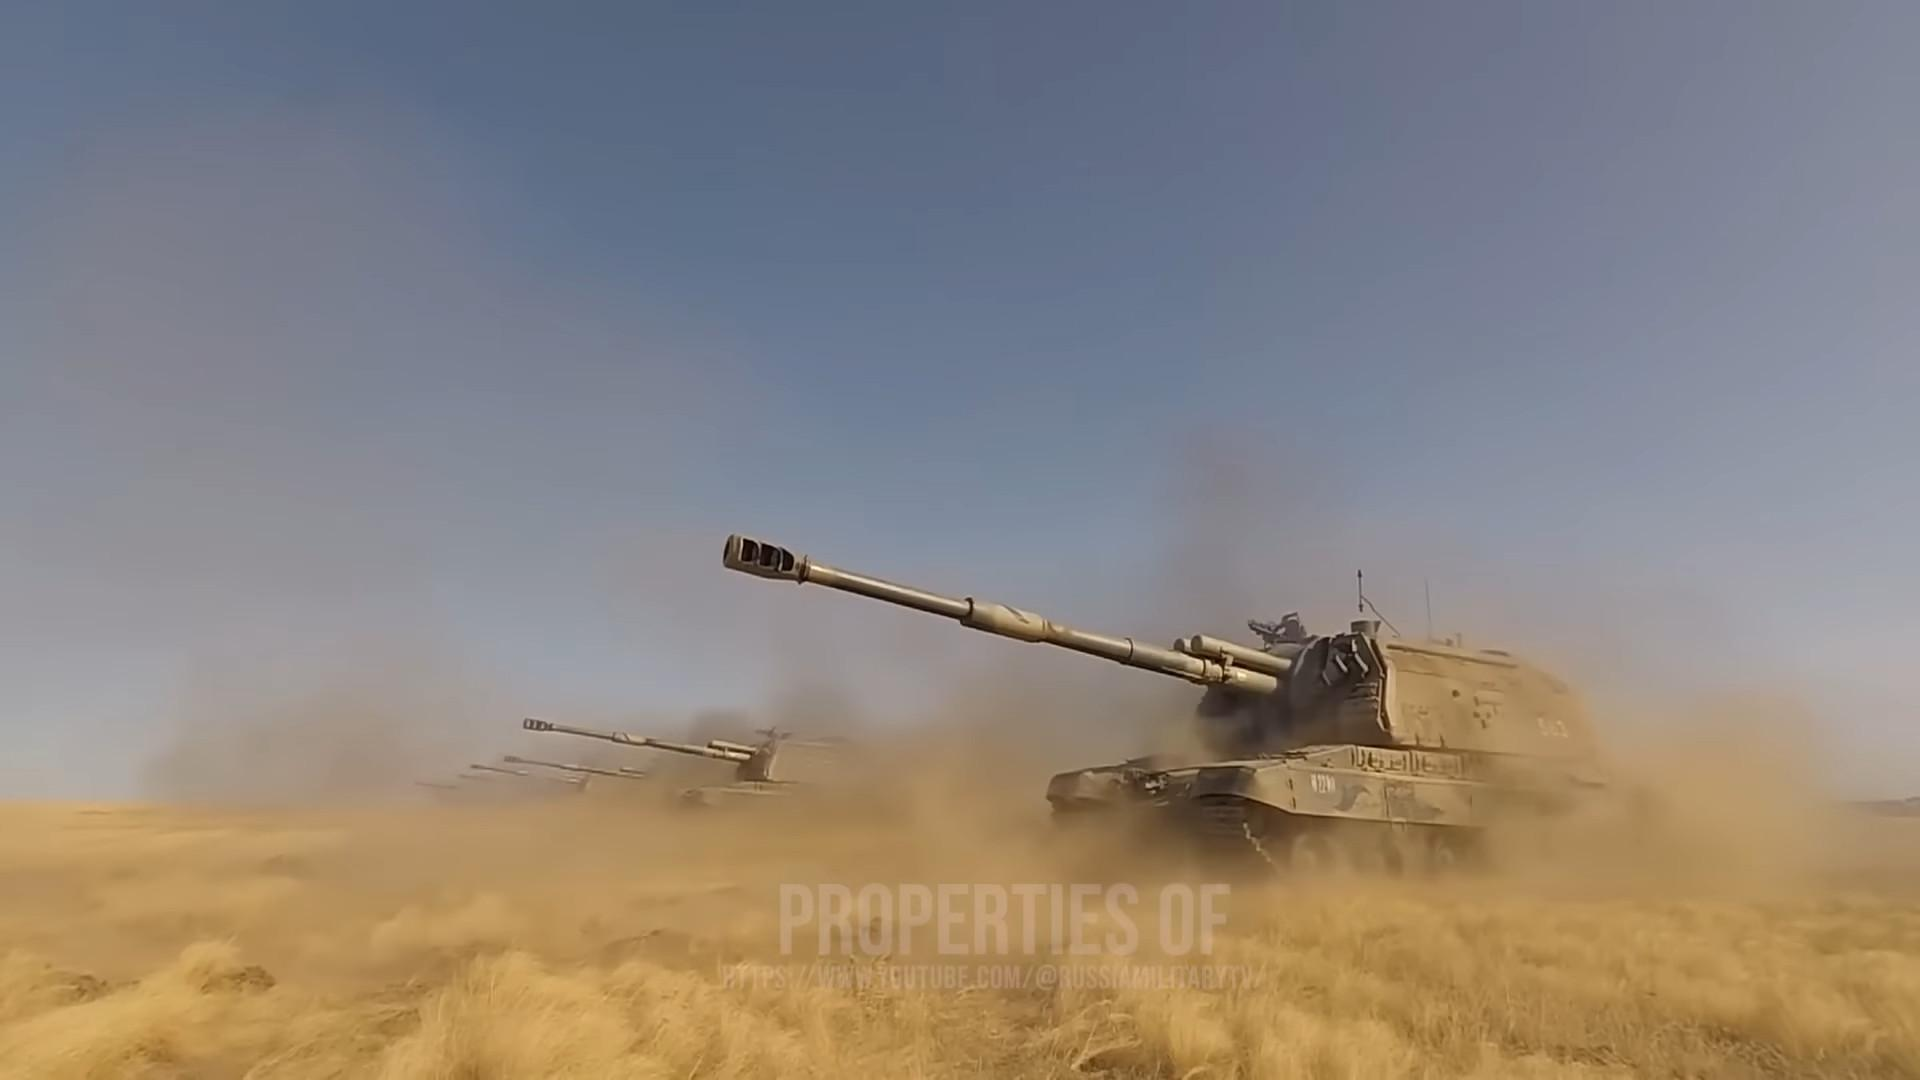tank: (721, 531, 1673, 881), (522, 717, 919, 829)
